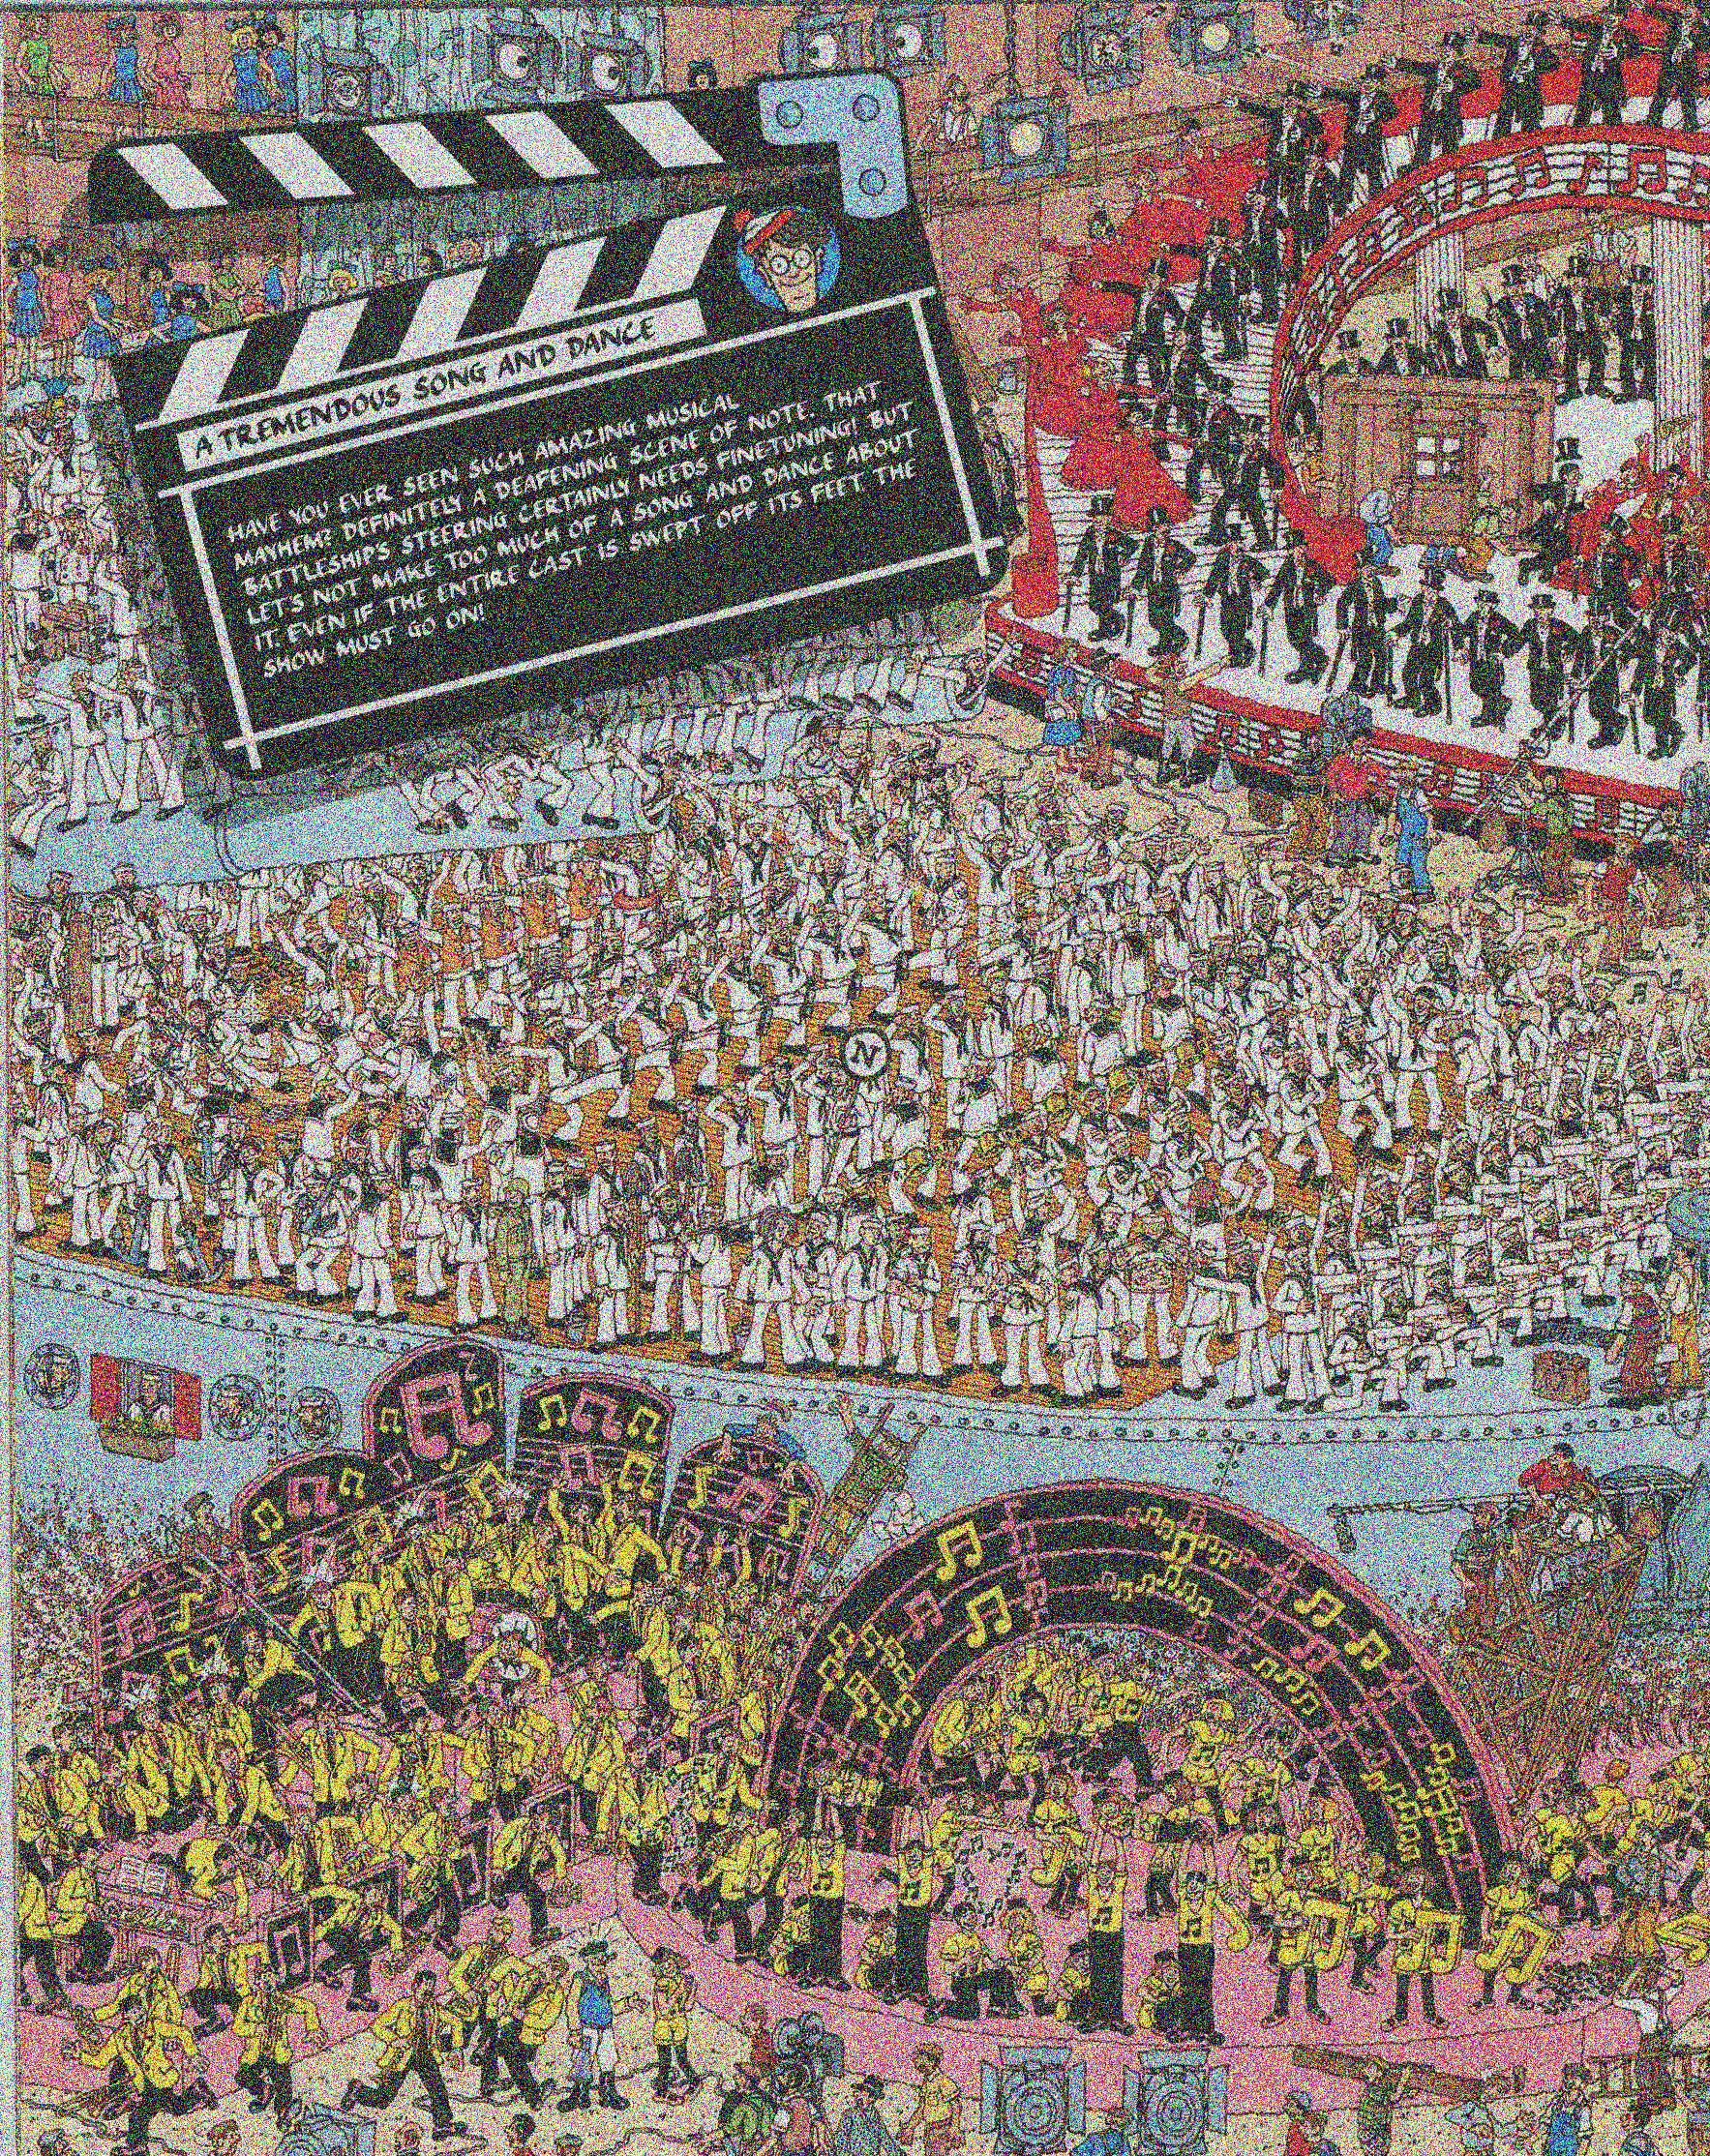waldos: (726, 198, 840, 315)
